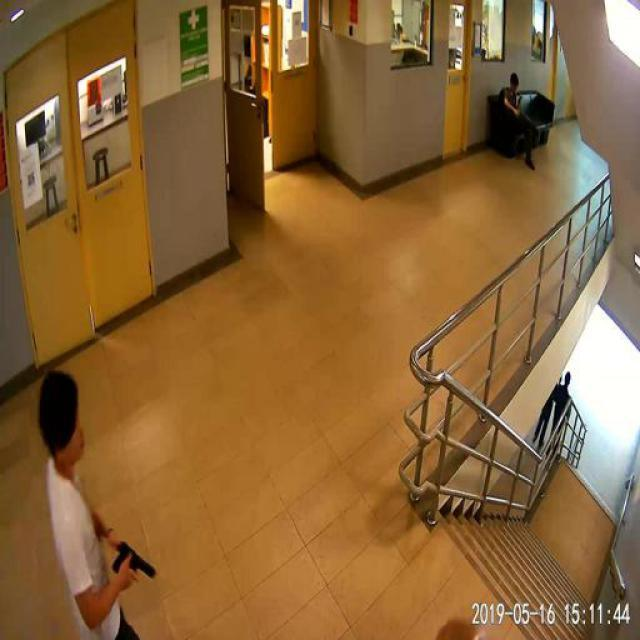weapon: (110, 540, 156, 578)
